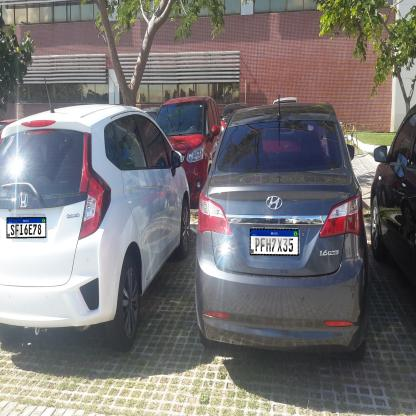PlacaM: (250, 228, 299, 256), (6, 217, 46, 238)
